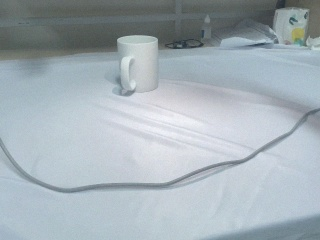bottle: (200, 15, 212, 44)
box: (272, 6, 310, 45)
cup: (117, 34, 160, 96)
